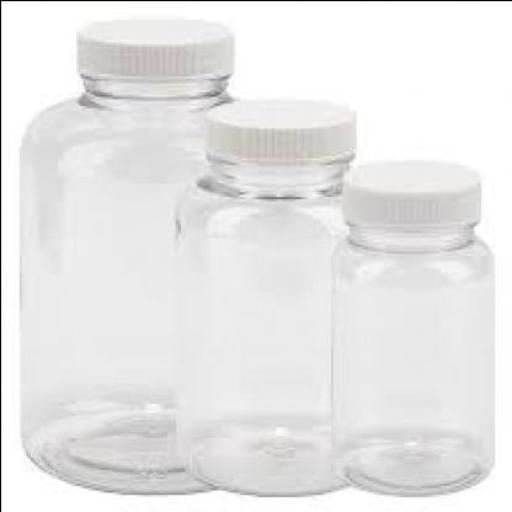glass: (20, 73, 243, 492), (180, 157, 354, 489), (336, 224, 496, 492)
plastic: (80, 14, 234, 78), (205, 93, 357, 157), (348, 157, 482, 223)
